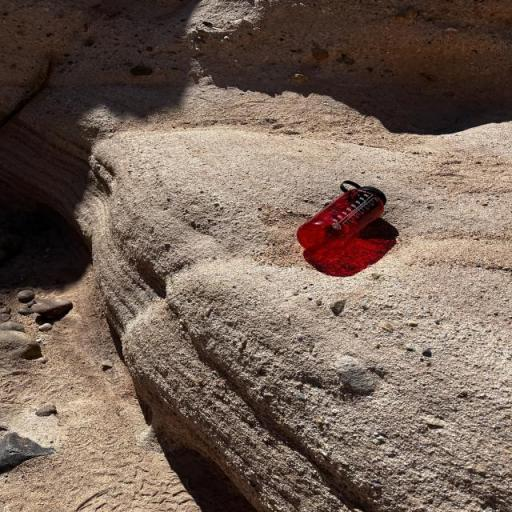bottle: (297, 180, 386, 256)
